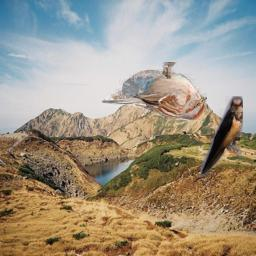Sparrow: (102, 62, 207, 121)
Swallow: (200, 96, 243, 177)
